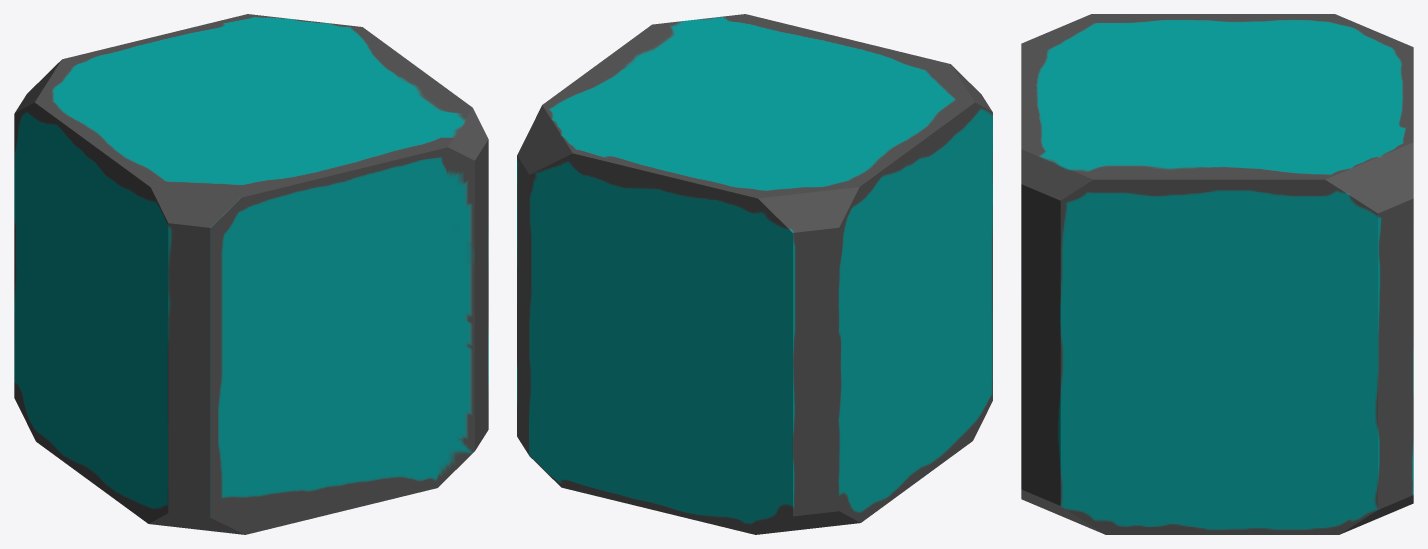
The model's file is CyanObject.fbx.
3 renders of one model, left to right at view 1: azimuth 30°, elevation 25°; view 2: azimuth 150°, elevation 25°; view 3: azimuth 270°, elevation 25°, orthographic. The views are drawn at different scales.
Parts seen in each view (by area): view 1: Cube; view 2: Cube; view 3: Cube.
Boxes of the visible parts, left/top/right/bottom form: Cube: left=14, top=14, right=488, bottom=534; Cube: left=517, top=14, right=992, bottom=534; Cube: left=1021, top=14, right=1413, bottom=534.
Size of the model in its own units: 341 by 341 by 341.
